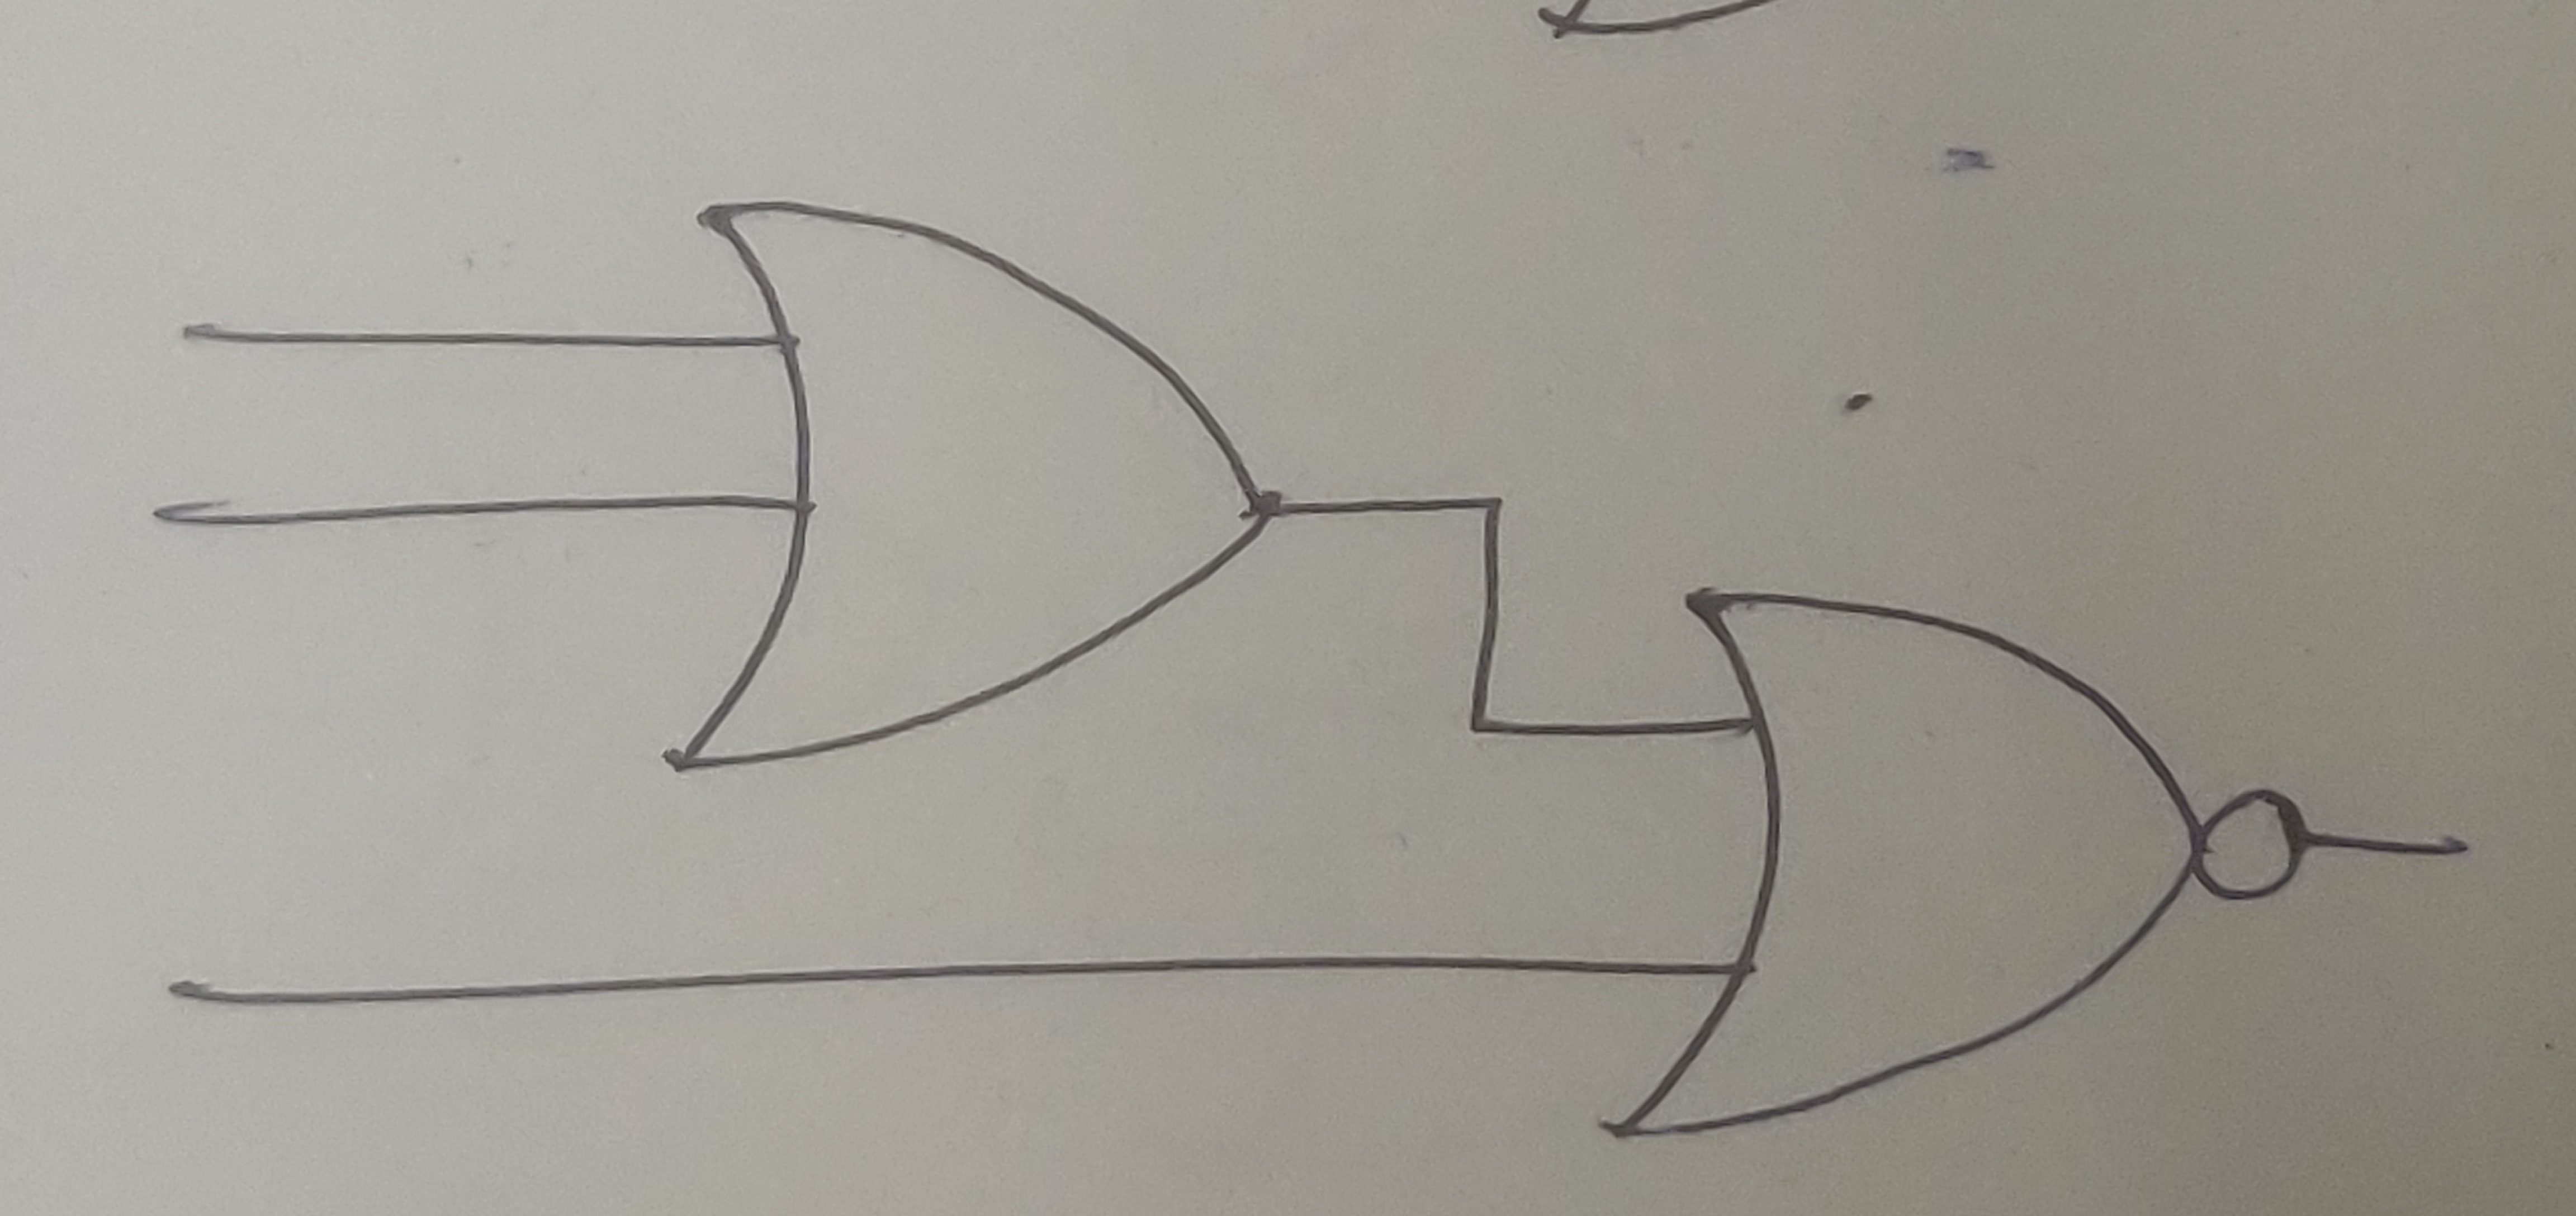not: (2198, 782, 2307, 910)
or: (670, 200, 1278, 772), (1607, 582, 2208, 1144)
